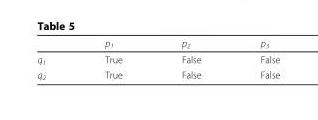table: (36, 37, 279, 80)
table column: (151, 37, 230, 80), (74, 37, 151, 80), (230, 37, 279, 80), (36, 37, 74, 80)
table column header: (36, 37, 279, 51)
table row: (36, 51, 279, 67), (36, 37, 279, 51), (36, 67, 279, 80)
